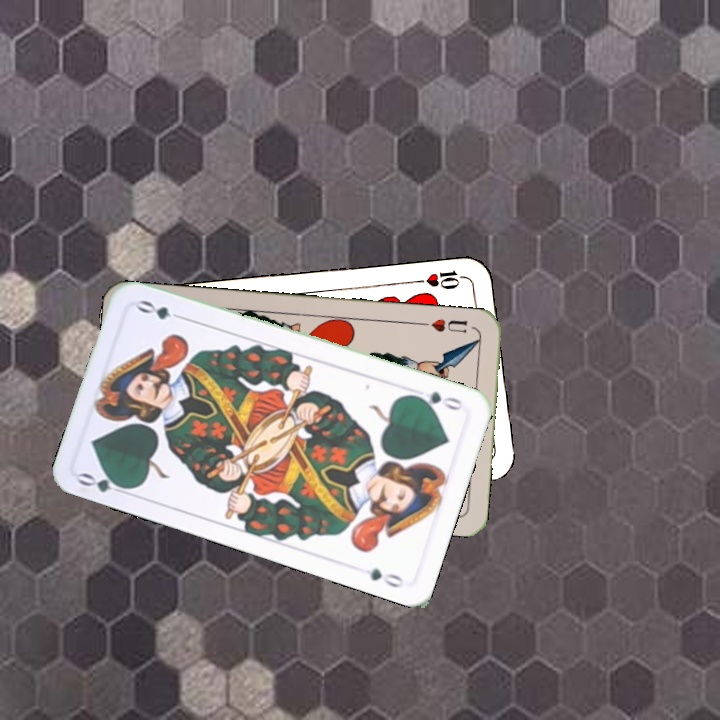GO: (74, 467, 134, 498), (408, 387, 466, 413)
H10: (410, 267, 470, 291)
HU: (417, 314, 470, 336)
